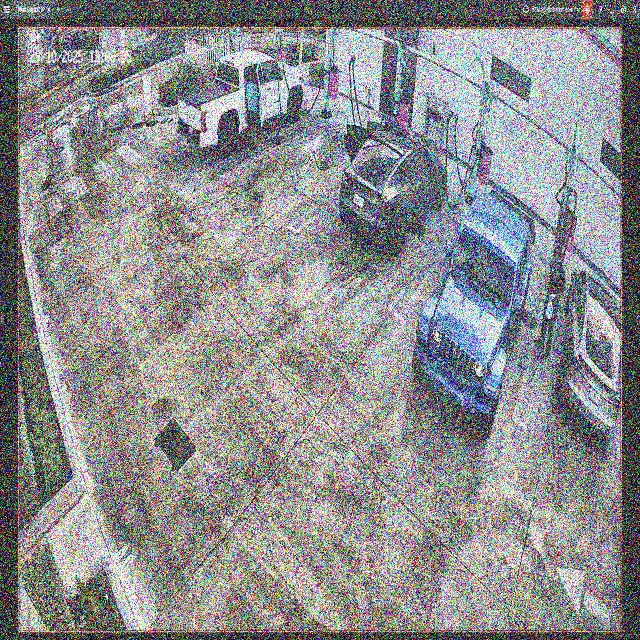Car: (414, 186, 532, 427), (179, 52, 304, 155), (344, 120, 445, 246)
